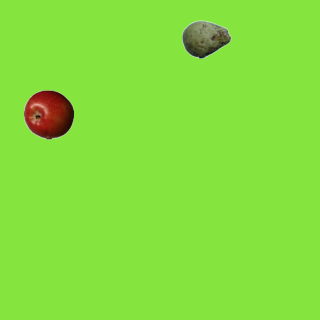Apple Braeburn: (23, 89, 73, 139)
Pear Stone: (181, 14, 231, 64)
